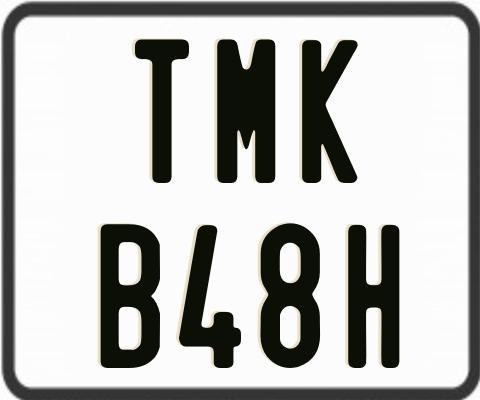4: (179, 223, 243, 367)
8: (257, 221, 319, 369)
B: (101, 223, 161, 373)
H: (345, 224, 399, 373)
K: (302, 37, 358, 186)
M: (217, 37, 279, 185)
T: (133, 38, 189, 183)
